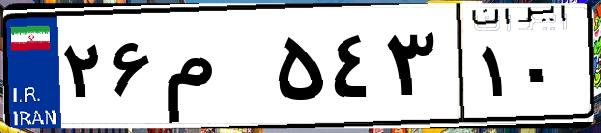0: (525, 38, 570, 115)
1: (475, 38, 525, 113)
2: (57, 26, 110, 100)
3: (385, 28, 445, 110)
4: (330, 28, 385, 110)
5: (270, 28, 330, 110)
6: (110, 28, 158, 98)
م: (158, 20, 270, 120)
